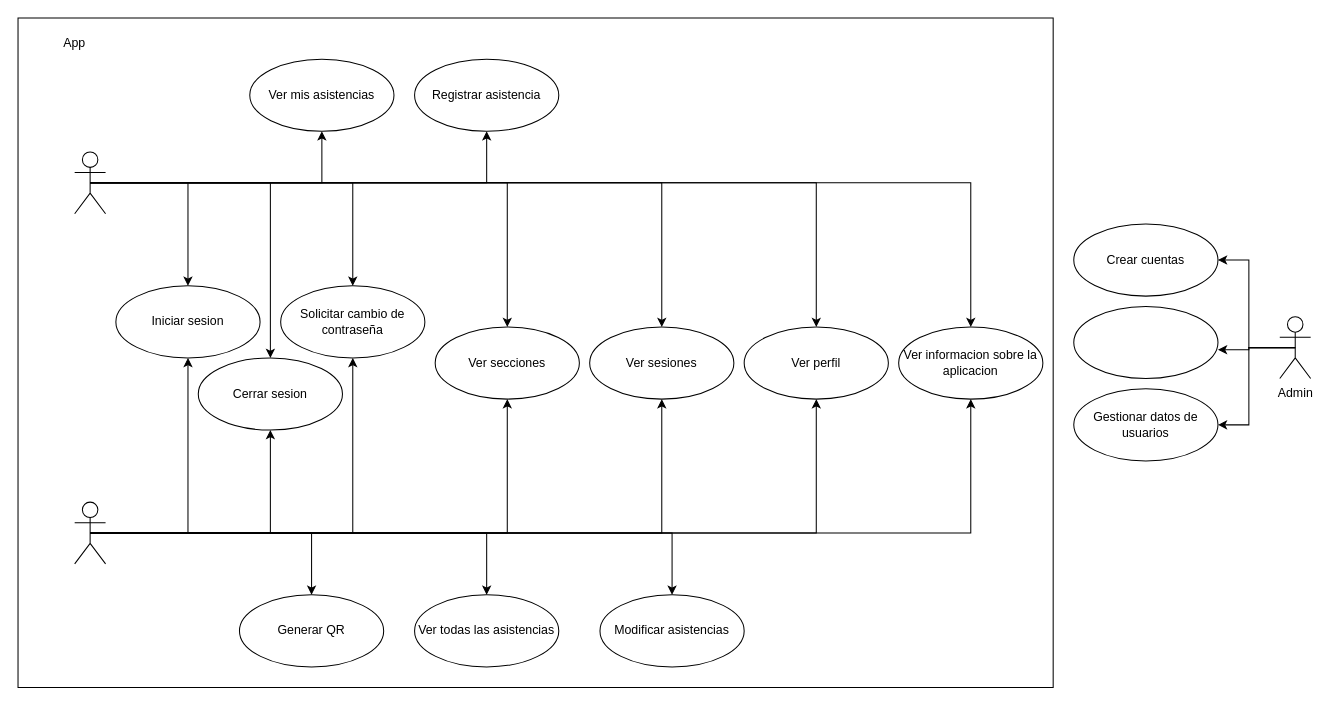
The diagram is 1331 pixels wide and 706 high, and some of its shapes have lost their labels. Here are the shapes that lost their labels. From the top down, the centre of each, then its label:
At pixel 90 182: "Alumno".
At pixel 1145 342: "Gestionar matriculas".
At pixel 90 532: "Profesor".
